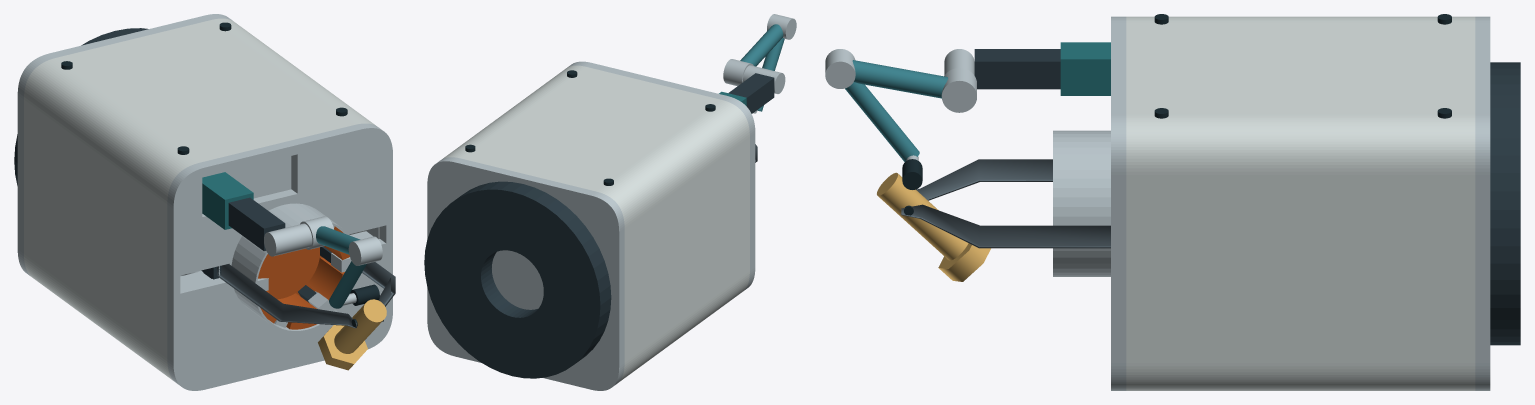
Rendered from m6-r09-gripper.glb.
3 views of the same model, side by side, from view 1: azimuth 30°, elevation 25°; view 2: azimuth 150°, elevation 25°; view 3: azimuth 270°, elevation 25° (orthographic). The views are drawn at different scales.
Visible parts, largest first — view 1: cover-sleeve, front-plate-with-ports, tweezer-blade (×2), rear-bulkhead, slim-nose-tube, held-bolt, feed-yoke, chuck-back-disc, thumb-drive-envelope, thumb-column, thumb-base-axle, chuck-web-5 (+7 smaller); view 2: cover-sleeve, robot-adapter-ring, rear-bulkhead, front-plate-with-ports, thumb-column, thumb-proximal, thumb-joint-1, thumb-base-axle, thumb-joint-2, thumb-distal; view 3: cover-sleeve, robot-adapter-ring, tweezer-blade (×2), slim-nose-tube, front-plate-with-ports, rear-bulkhead, thumb-column, held-bolt, thumb-drive-envelope, thumb-proximal, thumb-distal, thumb-base-axle (+2 smaller).
Part boxes in pixels (x1,y1,x2,y2): cover-sleeve: [24, 18, 379, 380]; front-plate-with-ports: [167, 123, 392, 390]; tweezer-blade (×2): [217, 262, 395, 328]; rear-bulkhead: [17, 14, 232, 276]; slim-nose-tube: [231, 203, 356, 332]; held-bolt: [318, 299, 386, 370]; feed-yoke: [180, 156, 379, 287]; chuck-back-disc: [268, 247, 322, 299]; thumb-drive-envelope: [202, 172, 253, 229]; thumb-column: [228, 197, 285, 250]; thumb-base-axle: [264, 223, 312, 256]; chuck-web-5: [307, 257, 344, 300]; cover-sleeve: [443, 65, 749, 381]; robot-adapter-ring: [424, 181, 611, 378]; rear-bulkhead: [427, 157, 624, 390]; front-plate-with-ports: [567, 61, 755, 290]; thumb-column: [728, 73, 774, 113]; thumb-proximal: [740, 24, 783, 66]; thumb-joint-1: [723, 59, 753, 86]; thumb-base-axle: [743, 65, 785, 93]; thumb-joint-2: [767, 14, 796, 39]; thumb-distal: [757, 38, 784, 111]; cover-sleeve: [1126, 16, 1475, 390]; robot-adapter-ring: [1490, 62, 1520, 345]; tweezer-blade (×2): [901, 159, 1110, 248]; slim-nose-tube: [1053, 130, 1110, 276]; front-plate-with-ports: [1111, 16, 1126, 390]; rear-bulkhead: [1475, 16, 1490, 390]; thumb-column: [974, 49, 1060, 89]; held-bolt: [877, 172, 990, 281]; thumb-drive-envelope: [1060, 42, 1110, 95]; thumb-proximal: [852, 60, 948, 98]; thumb-distal: [845, 82, 919, 161]; thumb-base-axle: [944, 49, 974, 110].
Bounding box in the file's own units: 0.061 × 0.06 × 0.1375.
